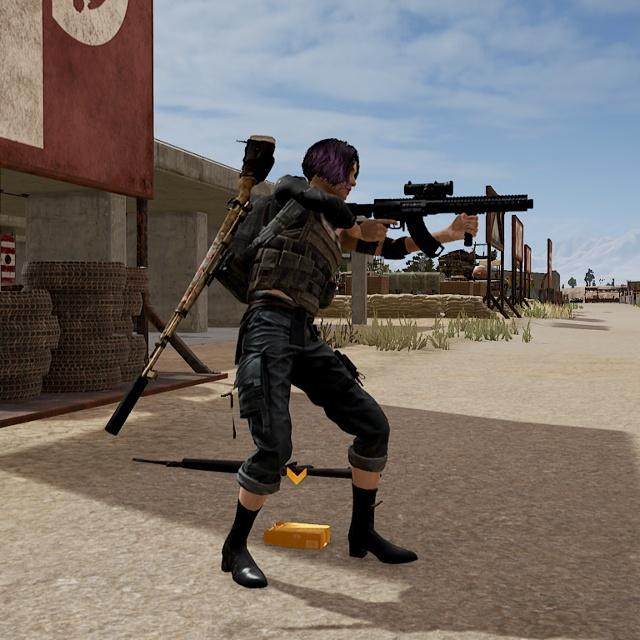head: (299, 132, 364, 203)
people: (196, 130, 424, 600)
